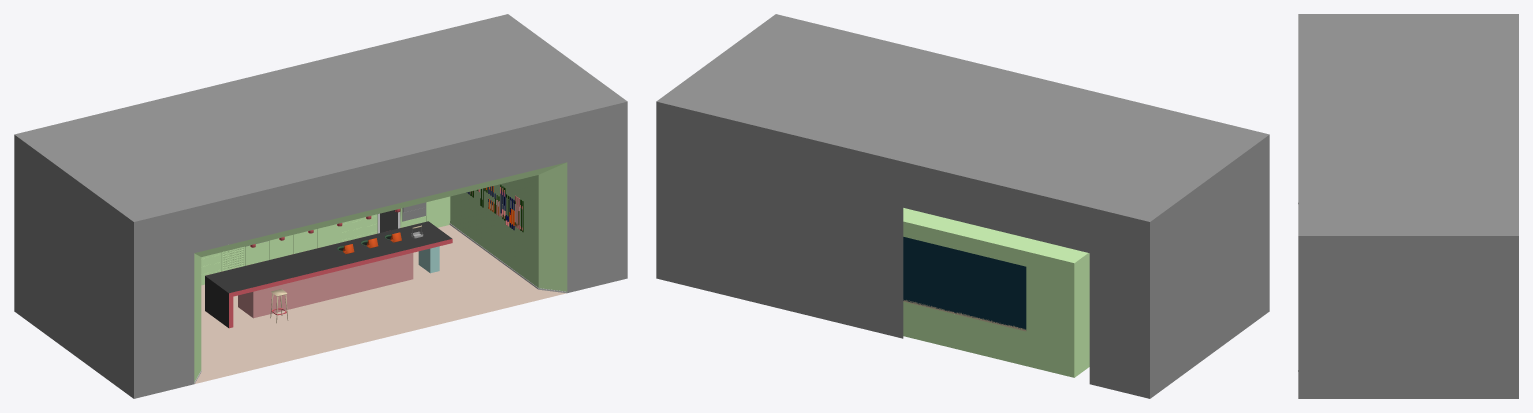
File: ul-kitchen14.gltf
3 renders of one model, left to right at view 1: azimuth 30°, elevation 25°; view 2: azimuth 150°, elevation 25°; view 3: azimuth 270°, elevation 25°, orthographic. The views are drawn at different scales.
Visible parts, largest first — view 1: concreteWalls, floor, mainGreenWall, mainTableTopPlane, mainTableBase, closetDoors, mainTableSidePannels, mainTableSidePlane; view 2: concreteWalls, mainGreenWall, MainNishBackWall; view 3: concreteWalls.
Boxes of the visible parts, x1,y1,x2,y2 form: concreteWalls: [14, 14, 627, 398]; floor: [195, 225, 565, 383]; mainGreenWall: [194, 162, 567, 381]; mainTableTopPlane: [205, 221, 451, 292]; mainTableBase: [238, 253, 413, 318]; closetDoors: [201, 196, 450, 281]; mainTableSidePannels: [229, 239, 452, 328]; mainTableSidePlane: [205, 276, 228, 327]; concreteWalls: [656, 14, 1269, 398]; mainGreenWall: [903, 208, 1089, 377]; MainNishBackWall: [903, 237, 1026, 329]; concreteWalls: [1298, 14, 1518, 398].
Bounding box in the file's own units: 208 × 71.34 × 87.55.
